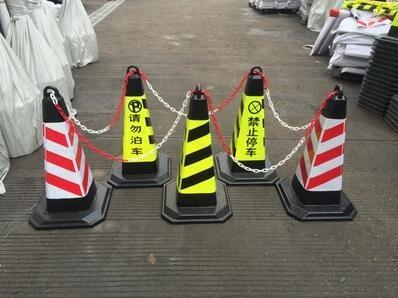cone_barrel: (31, 85, 106, 224), (279, 86, 355, 216), (168, 85, 225, 212), (105, 67, 161, 181), (227, 68, 274, 175)
